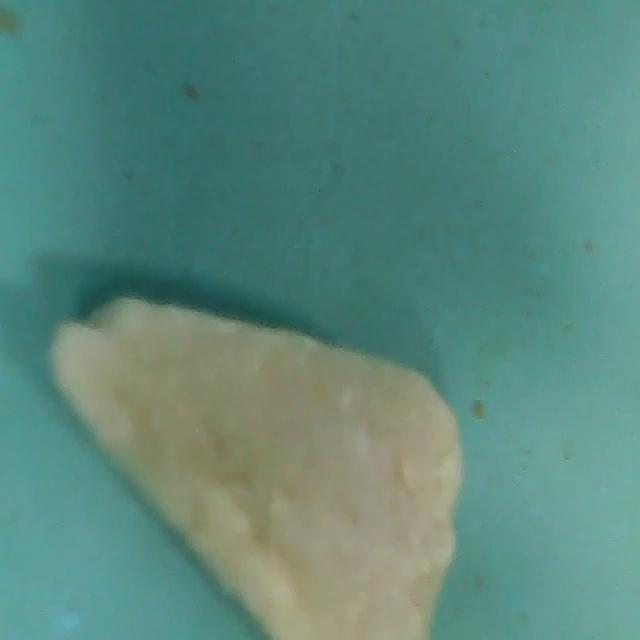rock: (43, 286, 476, 640)
